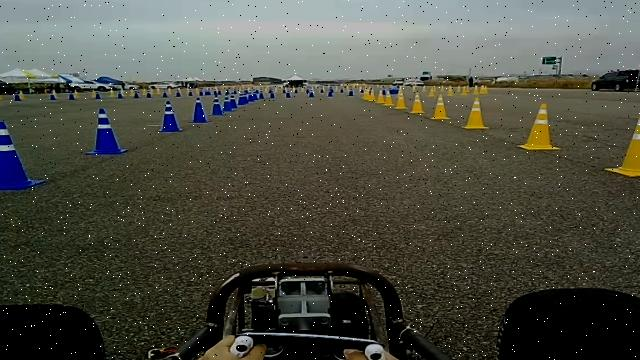blue cone: (0, 120, 46, 191), (84, 108, 128, 155), (158, 100, 182, 132), (189, 97, 209, 123), (210, 97, 224, 116)
yellow cone: (604, 111, 640, 177), (516, 102, 561, 150), (462, 97, 488, 129), (430, 94, 450, 120), (409, 93, 425, 113), (393, 91, 407, 109), (535, 103, 548, 121), (633, 112, 640, 134), (383, 94, 393, 106), (376, 90, 384, 103), (361, 92, 371, 100)
